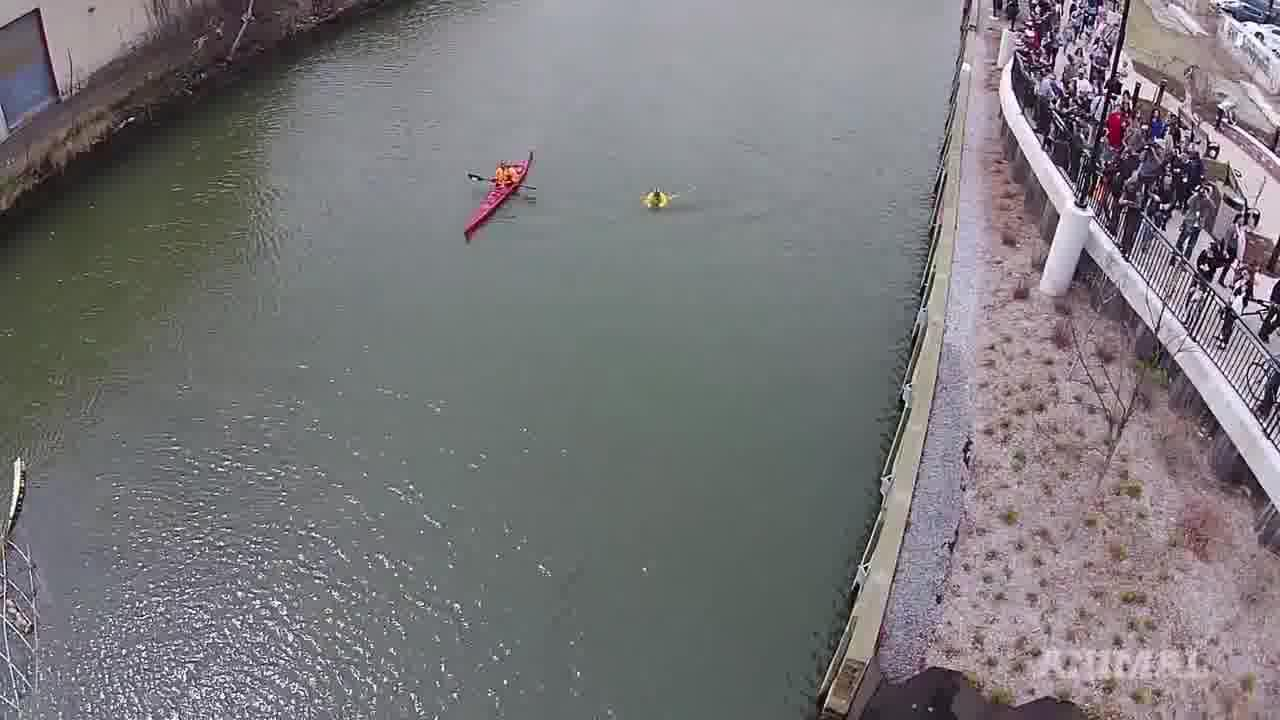human: (630, 171, 679, 219)
